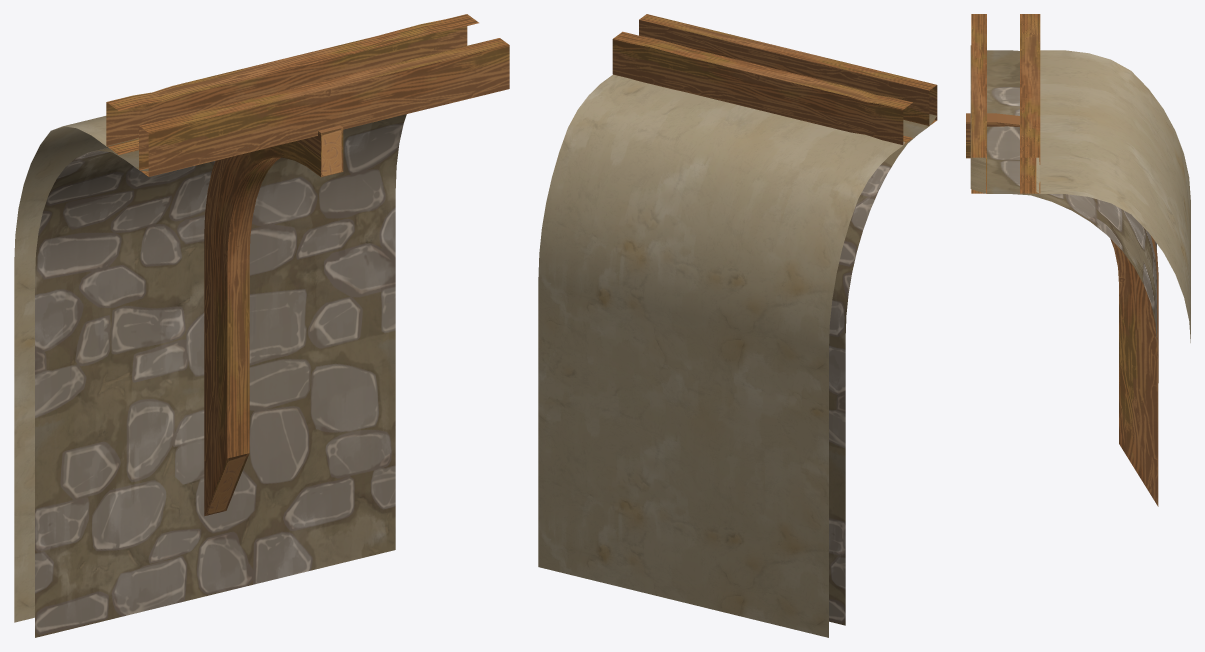
File: Overhang_UnevenBrick_Short.gltf
The picture shows the model from 3 angles, left to right: view 1: azimuth 30°, elevation 25°; view 2: azimuth 150°, elevation 25°; view 3: azimuth 270°, elevation 25°; orthographic projection. The views are drawn at different scales.
Visible parts, largest first — view 1: Overhang_UnevenBrick_Short; view 2: Overhang_UnevenBrick_Short; view 3: Overhang_UnevenBrick_Short.
Boxes of the visible parts, box(x1,y1,x2,y2) form: Overhang_UnevenBrick_Short: box(14, 14, 509, 637); Overhang_UnevenBrick_Short: box(538, 14, 937, 637); Overhang_UnevenBrick_Short: box(966, 14, 1190, 506).
Size of the model in its own units: 2 by 3.12 by 1.32.
Materials: 3 (3 with a texture image).
